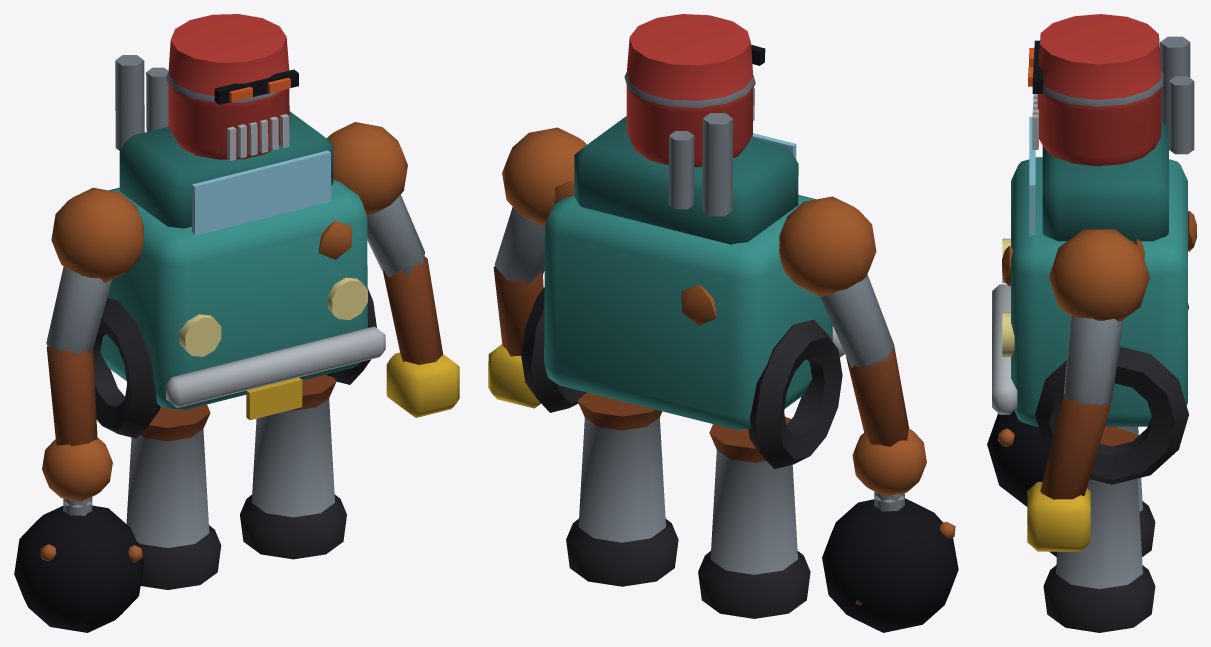
File: e_boss_wueste.glb
The picture shows the model from 3 angles, left to right: view 1: azimuth 30°, elevation 25°; view 2: azimuth 150°, elevation 25°; view 3: azimuth 270°, elevation 25°; orthographic projection. The views are drawn at different scales.
Parts seen in each view (by area): view 1: torso, head, leg_l, leg_r, ball, arm_r, arm_l, fore_l, fore_r; view 2: torso, leg_l, head, leg_r, ball, arm_r, arm_l, fore_r, fore_l; view 3: torso, head, leg_l, arm_l, fore_l, ball, leg_r.
Part boxes in pixels (x1,y1,x2,y2): torso: [93, 55, 385, 438]; head: [166, 14, 298, 160]; leg_l: [240, 375, 346, 559]; leg_r: [126, 404, 221, 589]; ball: [14, 497, 144, 632]; arm_r: [46, 187, 144, 354]; arm_l: [327, 122, 424, 277]; fore_l: [383, 256, 459, 417]; fore_r: [42, 346, 112, 508]; torso: [521, 113, 844, 469]; leg_l: [566, 392, 678, 586]; head: [624, 14, 765, 167]; leg_r: [698, 417, 810, 618]; ball: [822, 491, 958, 632]; arm_r: [779, 196, 894, 367]; arm_l: [494, 127, 586, 284]; fore_r: [846, 347, 926, 503]; fore_l: [488, 266, 543, 408]; torso: [992, 36, 1196, 484]; head: [1032, 14, 1163, 166]; leg_l: [1043, 426, 1155, 632]; arm_l: [1049, 229, 1149, 406]; fore_l: [1027, 394, 1110, 551]; ball: [987, 410, 1049, 506]; leg_r: [1049, 426, 1155, 557].
Bounding box in the file's own units: 4.07 × 4.88 × 1.66.
